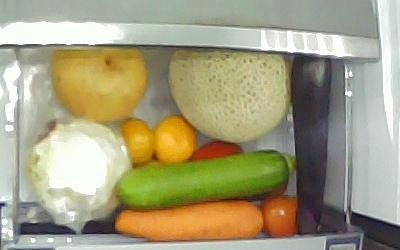cabbage: (26, 116, 133, 231)
carrot: (113, 199, 264, 241)
eggplant: (289, 54, 332, 235)
melon: (166, 46, 291, 143)
pear: (50, 45, 147, 123)
prune: (258, 193, 297, 237)
tangerine: (151, 114, 196, 162), (119, 117, 154, 165)
tomato: (189, 141, 244, 160)
zucchini: (112, 148, 296, 210)
